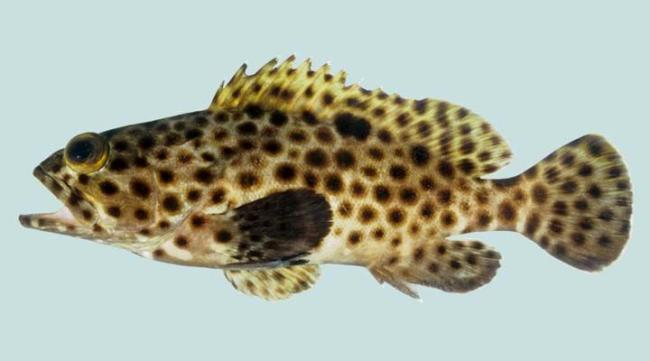fish: (19, 53, 635, 303)
